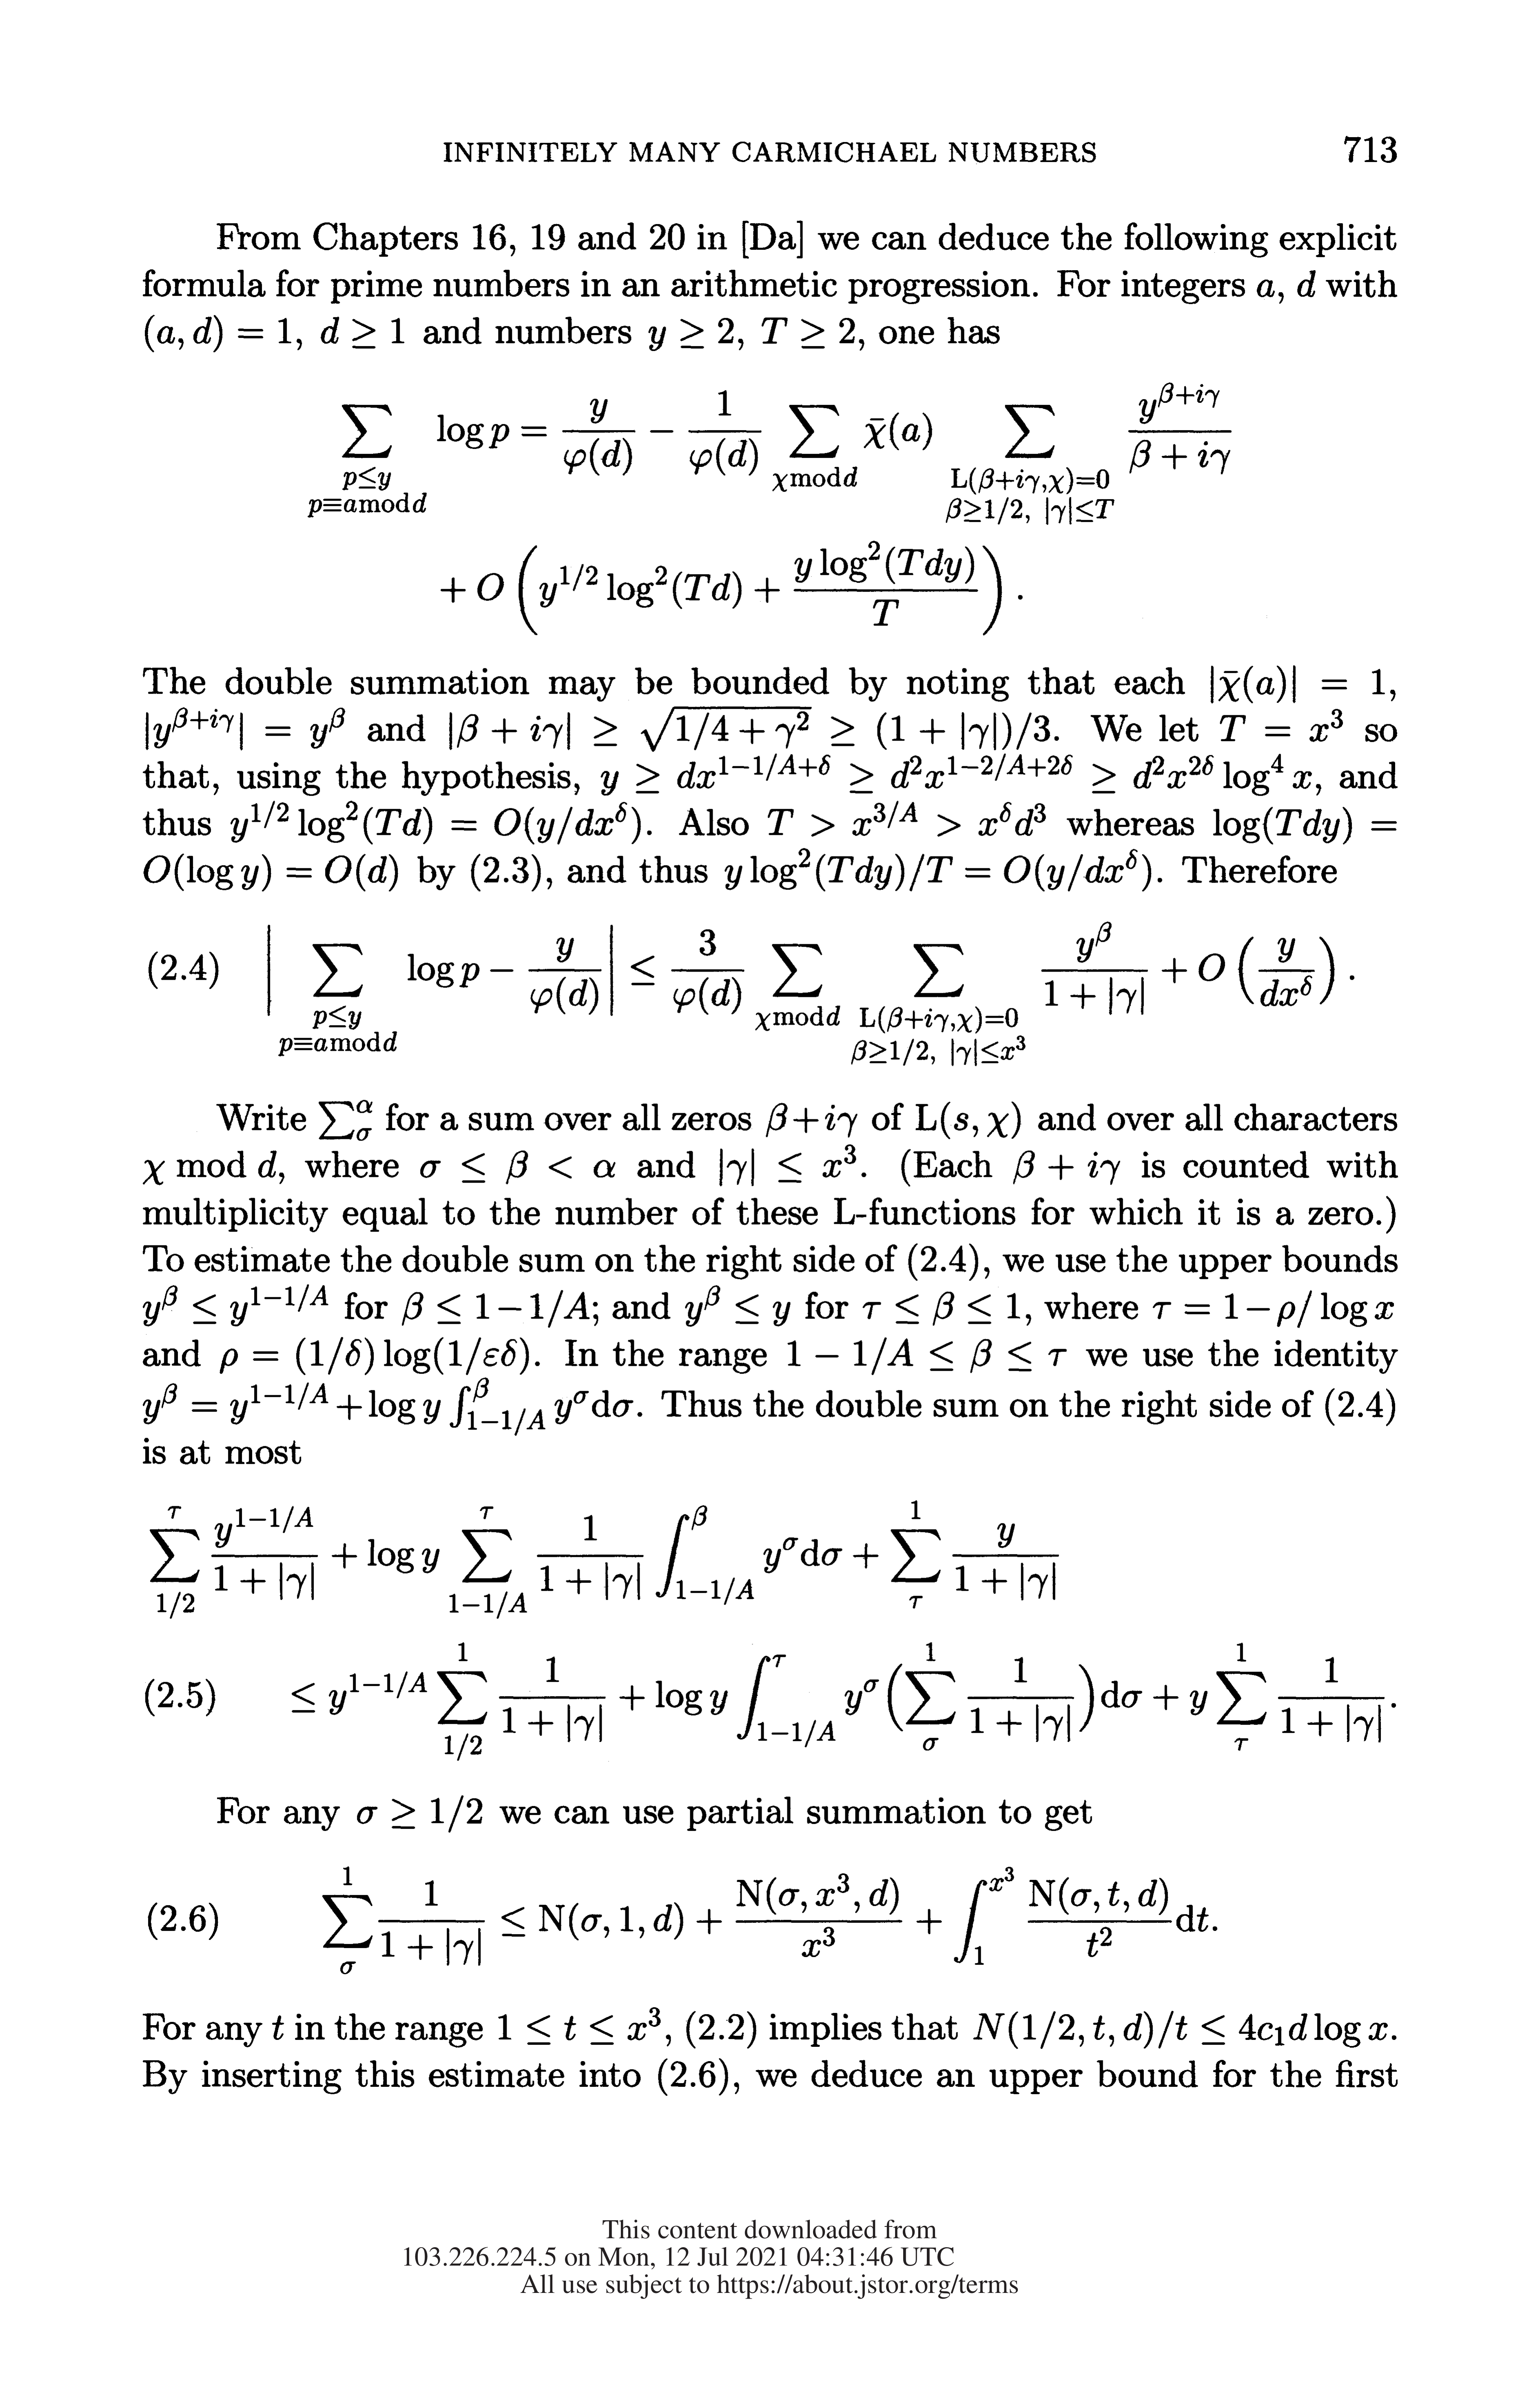maths: (279, 921, 1335, 1065), (291, 1643, 1384, 1760), (149, 1501, 1059, 1618), (323, 1866, 1208, 1974), (307, 390, 931, 518), (440, 541, 1002, 635), (449, 706, 1049, 781), (945, 383, 1231, 525), (600, 753, 1312, 795), (142, 1378, 633, 1436), (724, 848, 1151, 892), (230, 800, 640, 844), (973, 2011, 1387, 2048), (219, 1337, 528, 1374), (788, 1337, 1066, 1374), (144, 853, 398, 892), (768, 800, 1045, 835), (1152, 1290, 1394, 1327), (153, 707, 346, 749), (142, 1285, 328, 1327), (402, 1290, 589, 1327), (1214, 807, 1396, 844), (1210, 665, 1384, 704), (498, 2008, 670, 2046), (421, 1151, 616, 1183), (719, 1144, 856, 1186), (146, 314, 302, 351), (863, 1292, 1019, 1325), (142, 1151, 284, 1185), (358, 1795, 482, 1832), (686, 1285, 791, 1327), (1219, 709, 1342, 741), (916, 1102, 1021, 1139), (1014, 1151, 1119, 1185), (766, 1102, 858, 1137), (649, 318, 733, 351), (761, 318, 854, 348), (321, 316, 403, 348), (319, 1100, 372, 1141), (272, 2015, 303, 2039), (267, 925, 272, 1014), (1298, 270, 1315, 297), (1258, 279, 1275, 298)
